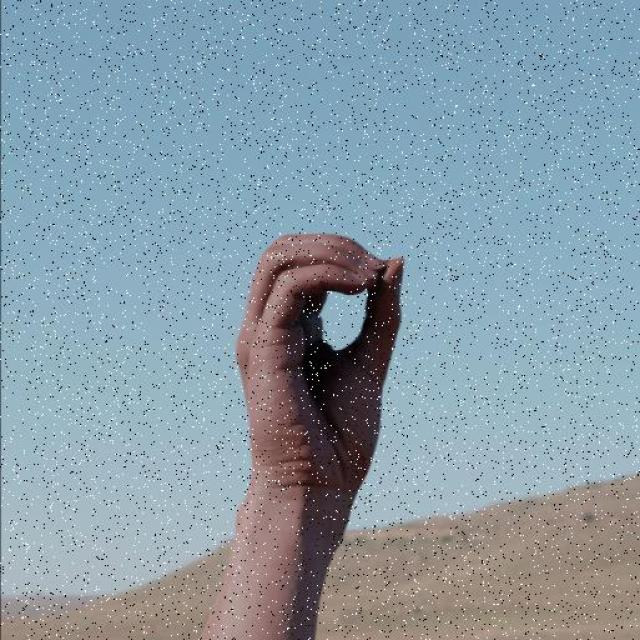O: (232, 227, 408, 501)
